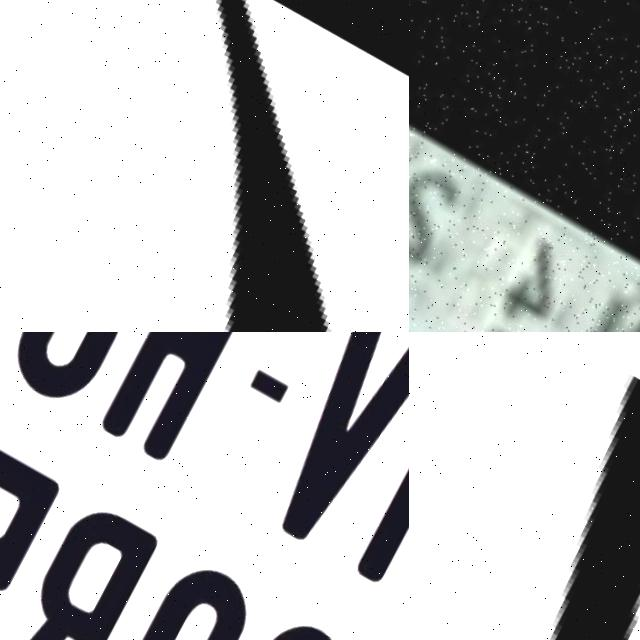0: (180, 590, 366, 640)
1: (353, 333, 409, 603)
2: (409, 140, 484, 272)
4: (482, 211, 603, 332)
5: (0, 431, 72, 640)
7: (0, 0, 409, 332)
8: (0, 332, 190, 424)
9: (78, 532, 275, 640)
H: (95, 332, 275, 471)
J: (409, 337, 640, 640)
R: (0, 479, 167, 640)
V: (250, 332, 409, 560)
